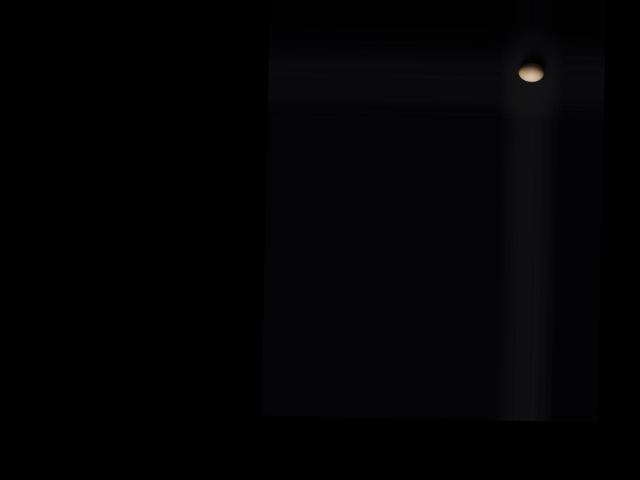egg: (517, 63, 544, 82)
